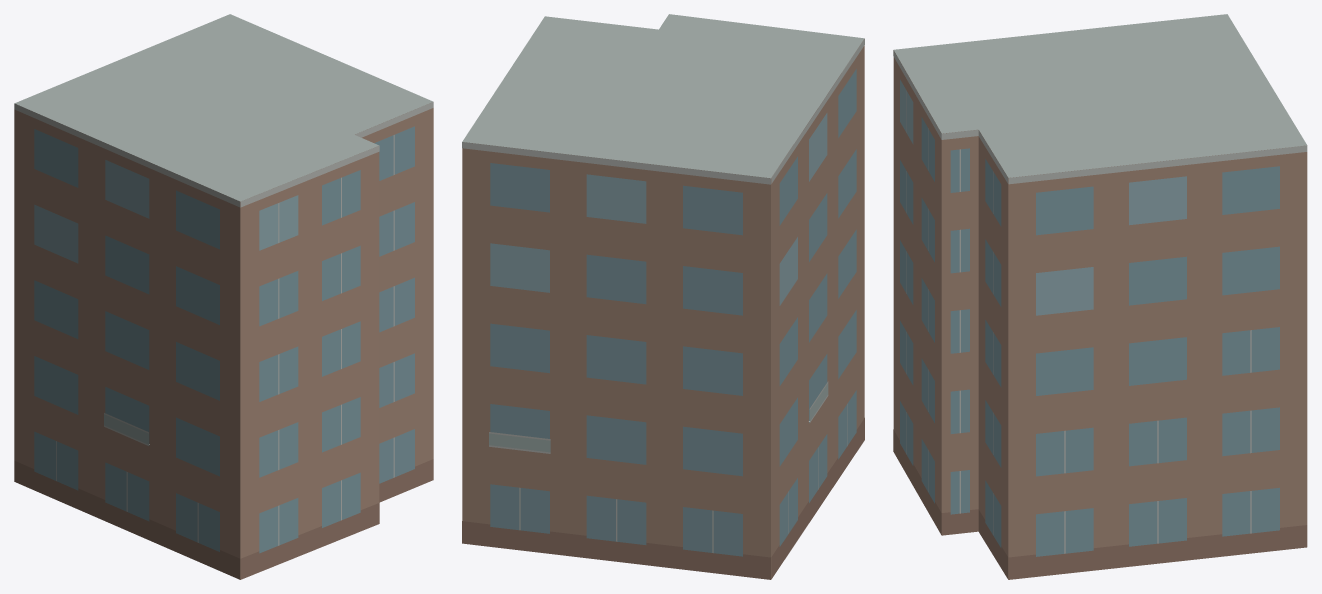
The model's file is survey-upis-32957753.glb.
The picture shows the model from 3 angles, left to right: view 1: azimuth 30°, elevation 25°; view 2: azimuth 150°, elevation 25°; view 3: azimuth 270°, elevation 25°; orthographic projection. The views are drawn at different scales.
Parts seen in each view (by area): view 1: survey-upis-32957753.tmp; view 2: survey-upis-32957753.tmp; view 3: survey-upis-32957753.tmp.
Part boxes in pixels (left/top/right/bottom): survey-upis-32957753.tmp: left=14, top=14, right=433, bottom=579; survey-upis-32957753.tmp: left=462, top=14, right=864, bottom=579; survey-upis-32957753.tmp: left=893, top=14, right=1307, bottom=579.
Size of the model in its own units: 13.35 by 15.25 by 14.24.
